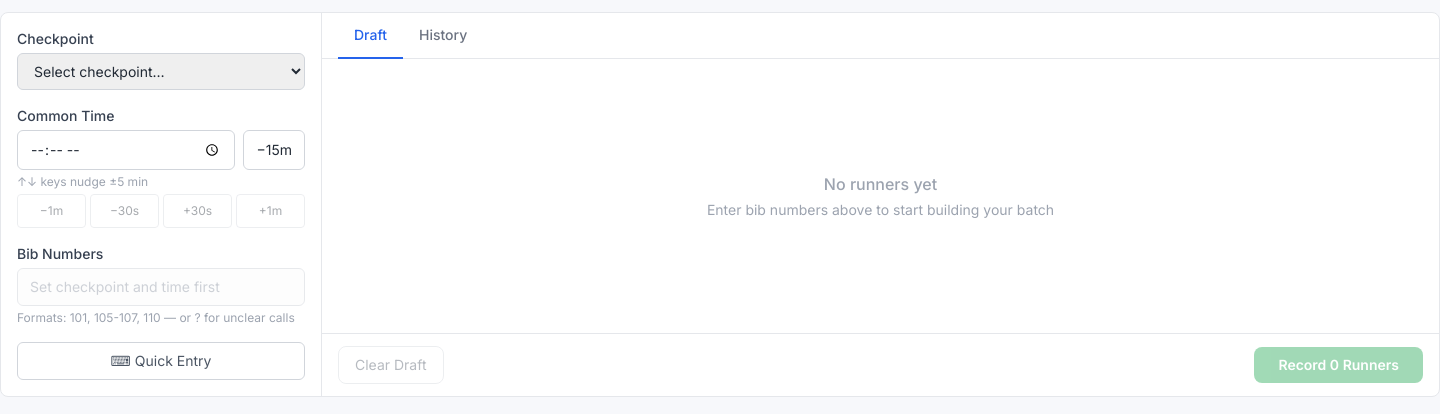
Test: BatchEntryLayout › switches to history tab when History is clicked
What coordinates should you click on to do the following:
click the button "History"
I would click on:
 (443, 36)
Its box is [403,13,483,59].
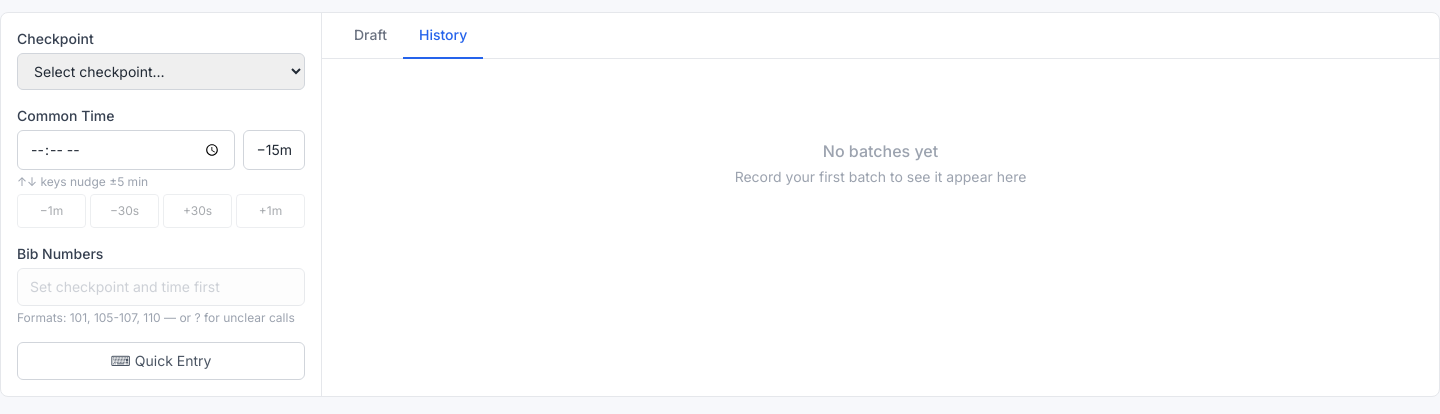
Expected: the text "No batches yet" is shown, [823,139,938,163]
